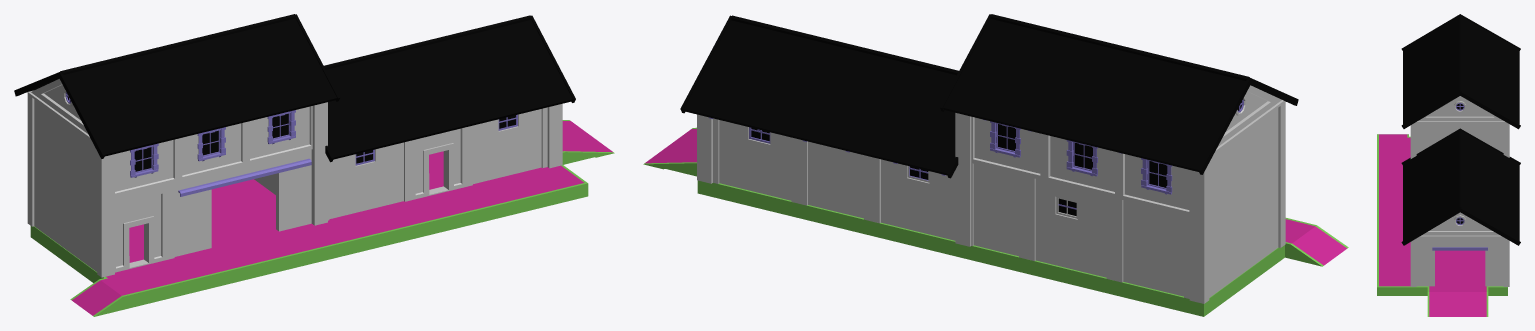
The model's file is SM_sorting_center.fbx.
3 renders of one model, left to right at view 1: azimuth 30°, elevation 25°; view 2: azimuth 150°, elevation 25°; view 3: azimuth 270°, elevation 25°, orthographic. The views are drawn at different scales.
Visible parts, largest first — view 1: Cube_5, Cube_6, Cube_8; view 2: Cube_5, Cube_6, Cube_8; view 3: Cube_5, Cube_8, Cube_6.
Part boxes in pixels (box(x1,y1,x2,y2)): Cube_5: box(27, 79, 614, 316); Cube_6: box(14, 14, 340, 158); Cube_8: box(324, 15, 575, 162); Cube_5: box(643, 85, 1348, 316); Cube_6: box(940, 14, 1298, 174); Cube_8: box(680, 15, 958, 178); Cube_5: box(1377, 96, 1509, 316); Cube_8: box(1401, 128, 1520, 245); Cube_6: box(1401, 14, 1520, 129).
Size of the model in its own units: 3109 by 1029 by 1035.
